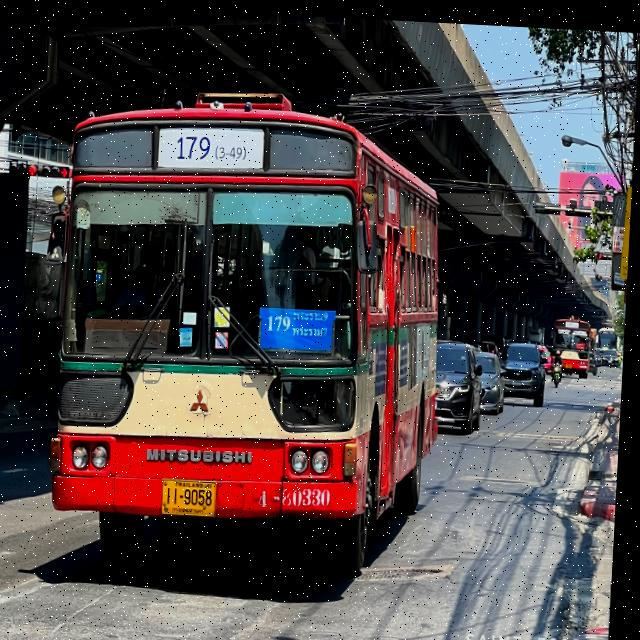BMTA-bus: (32, 68, 463, 600), (552, 302, 597, 377)
Bus-Line-Number: (161, 124, 269, 168)
Destination-Sign-Normal: (263, 305, 337, 348)
